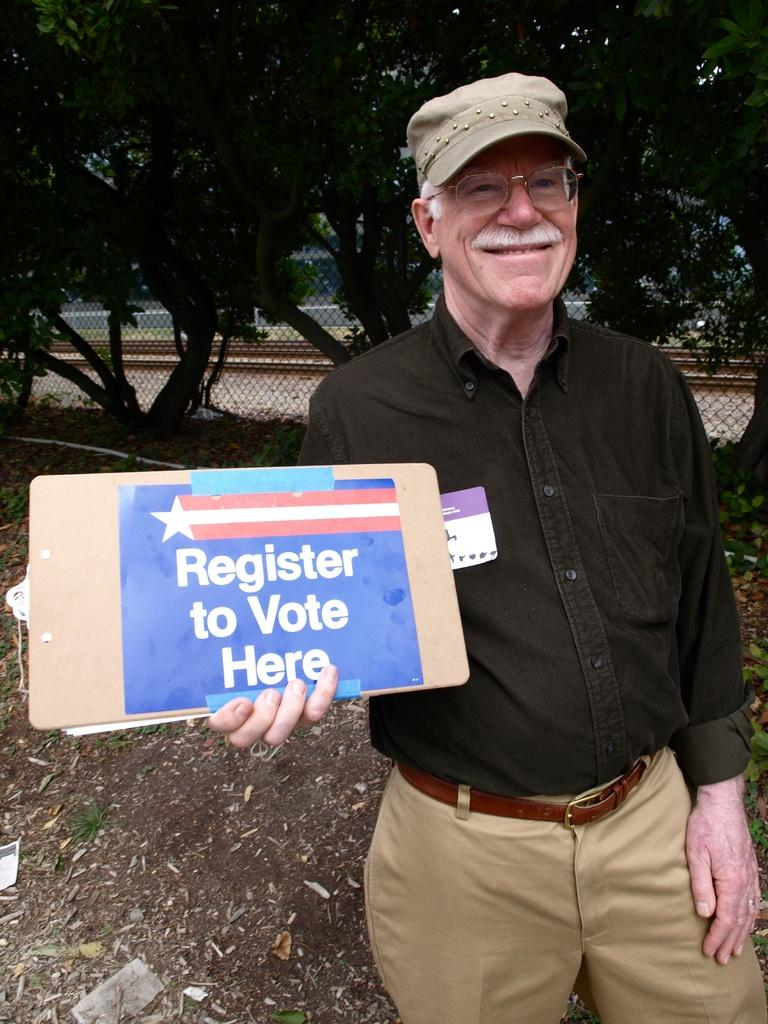Hat: (406, 70, 586, 194)
